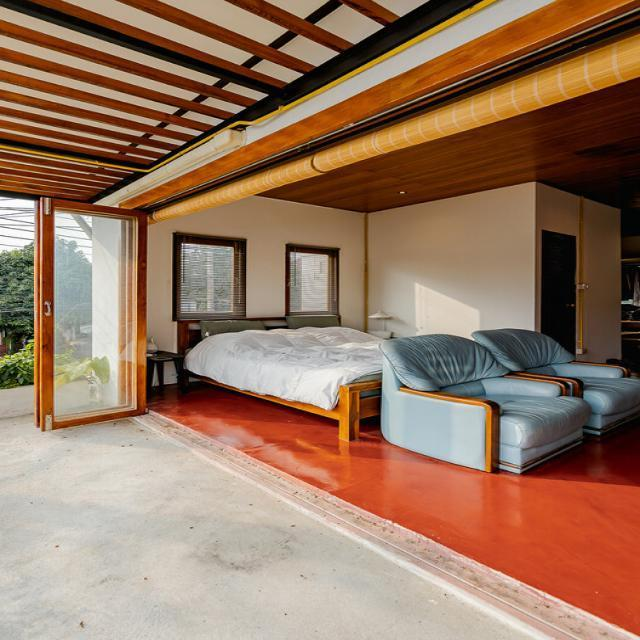couch: (377, 334, 592, 474), (471, 329, 639, 435)
